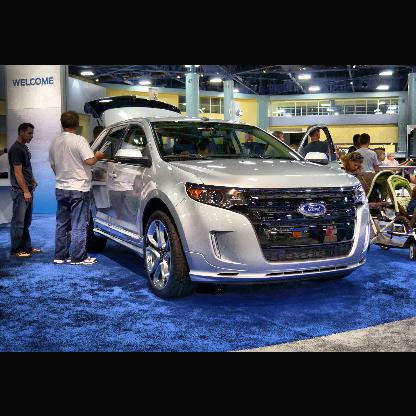Ford Edge SUV 2012: (79, 117, 369, 297)
